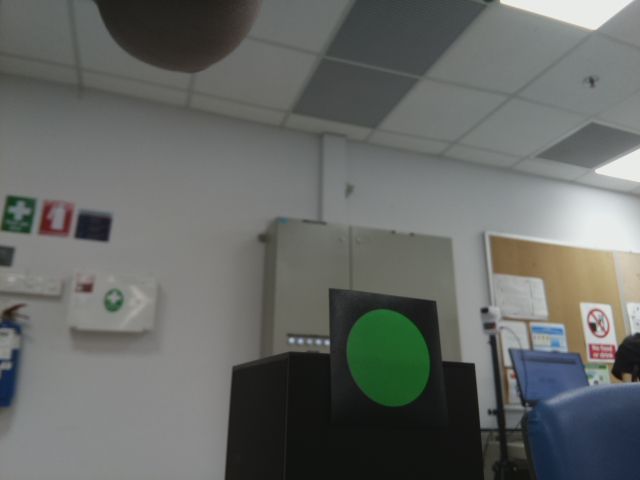go: (339, 302, 434, 403)
